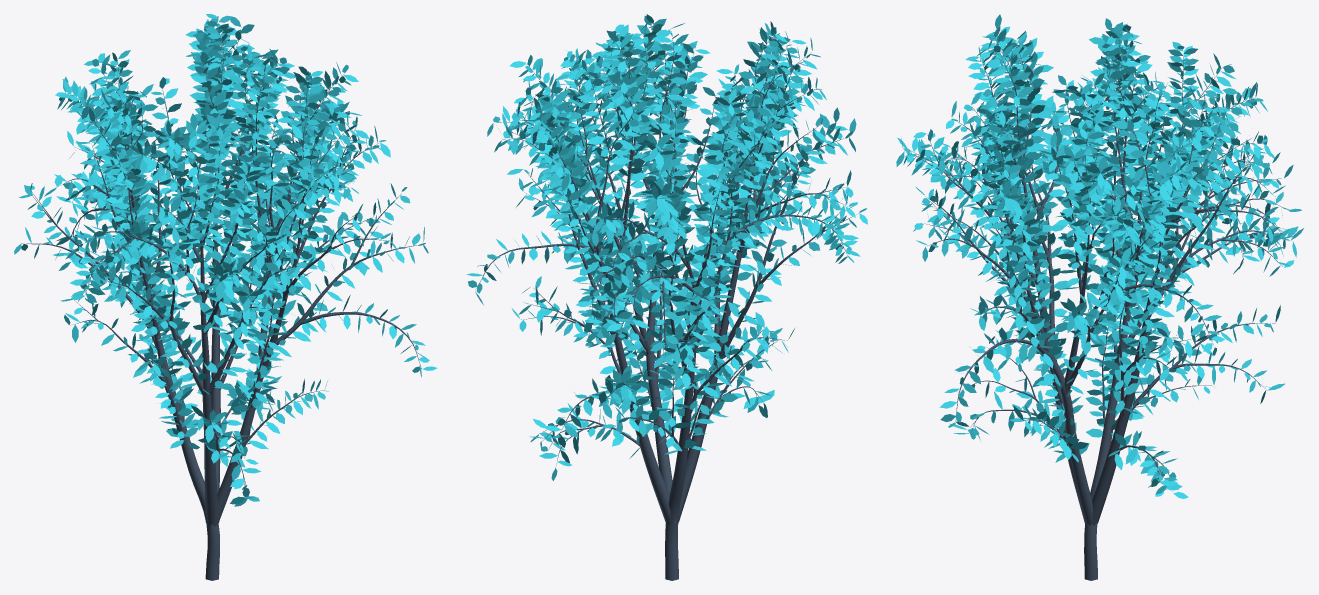
The model's file is tree2.fbx.
3 renders of one model, left to right at view 1: azimuth 30°, elevation 25°; view 2: azimuth 150°, elevation 25°; view 3: azimuth 270°, elevation 25°, orthographic. The views are drawn at different scales.
Visible parts, largest first — view 1: leaves.001, tree.001; view 2: leaves.001, tree.001; view 3: leaves.001, tree.001.
Part boxes in pixels (left/top/right/bottom): leaves.001: left=14, top=14, right=437, bottom=506; tree.001: left=21, top=19, right=420, bottom=580; leaves.001: left=466, top=14, right=867, bottom=480; tree.001: left=475, top=26, right=858, bottom=580; leaves.001: left=896, top=14, right=1303, bottom=498; tree.001: left=904, top=40, right=1292, bottom=580.
Bounding box in the file's own units: 1085 × 1660 × 1162.
